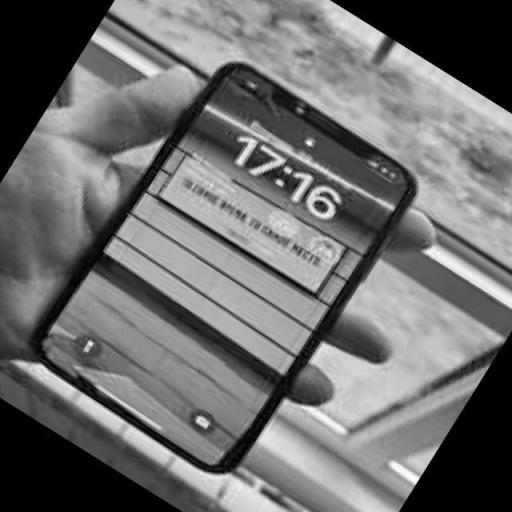phone: (33, 62, 415, 472)
